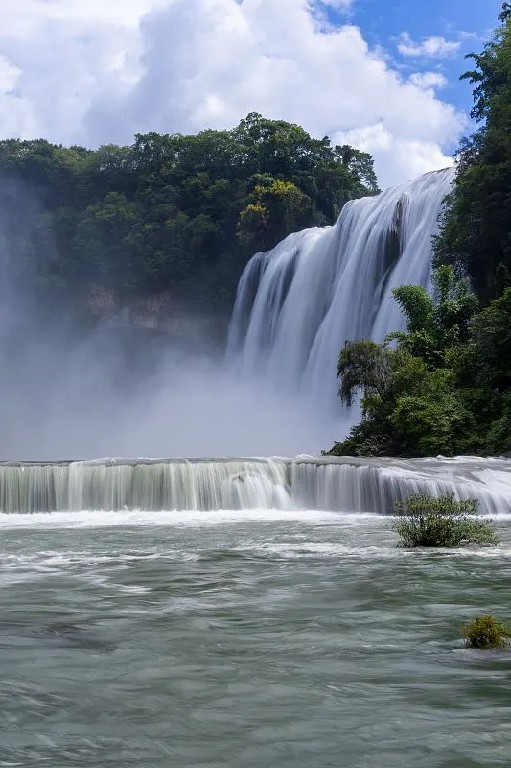Huangguoshu: (217, 166, 457, 457)
